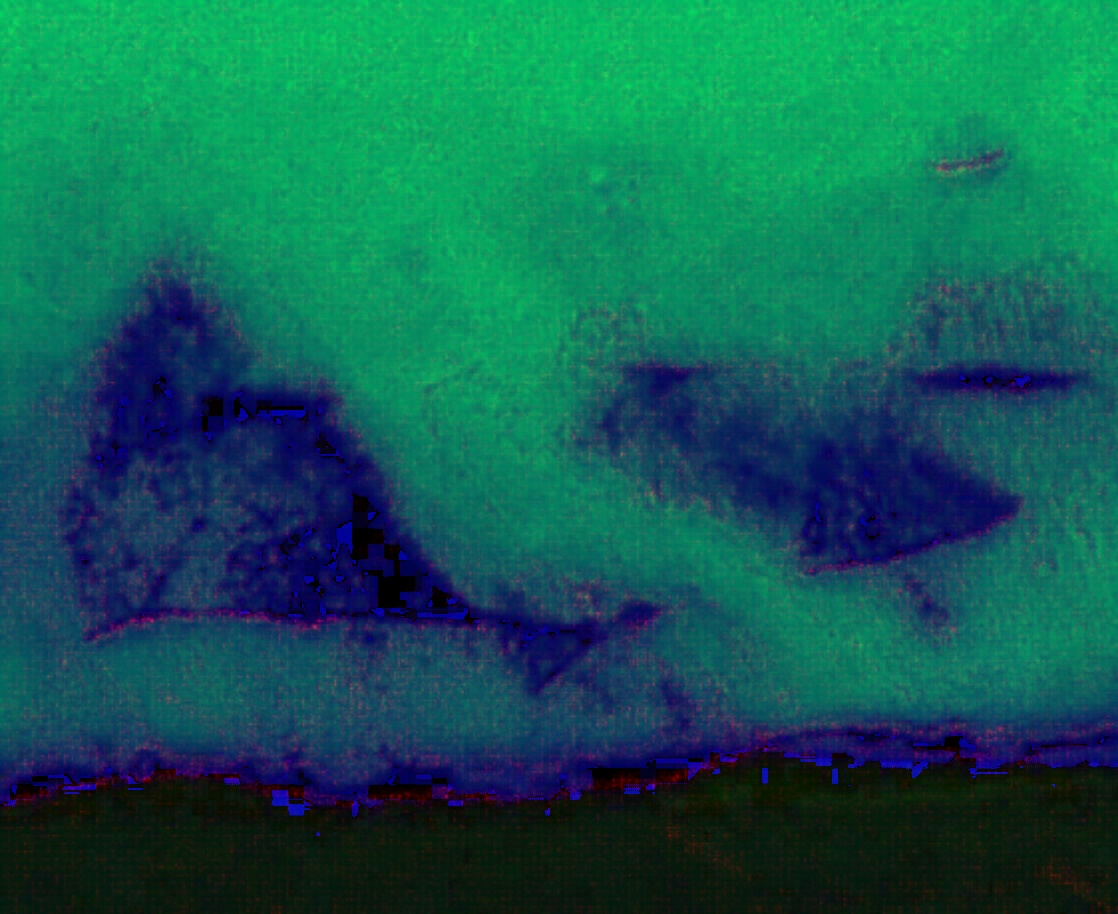rip_current: (227, 274, 864, 699)
